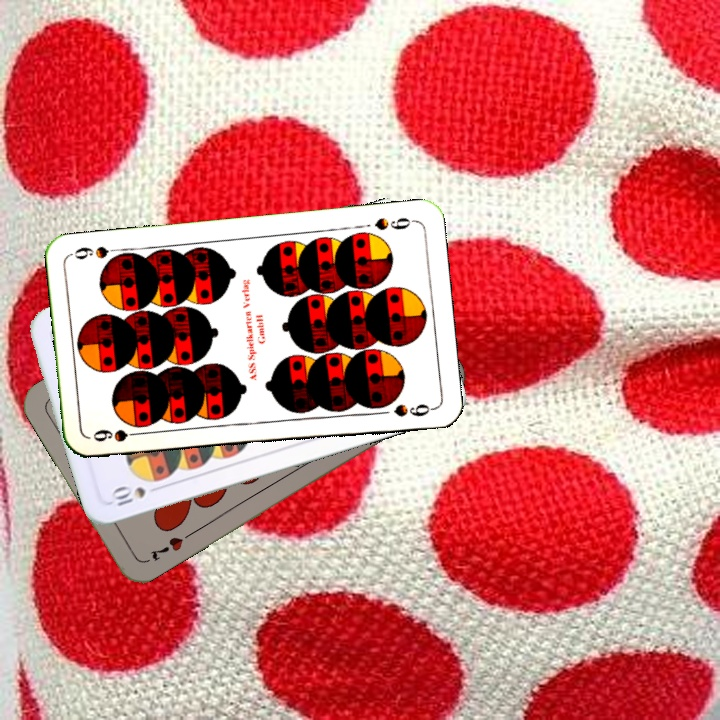H7: (145, 532, 186, 564)
S10: (107, 482, 165, 509)
S9: (89, 425, 147, 445), (370, 213, 418, 233)
